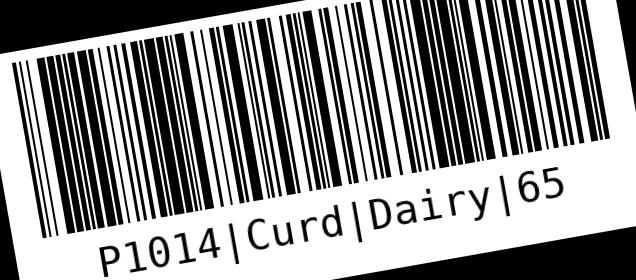milk: (5, 0, 634, 278)
